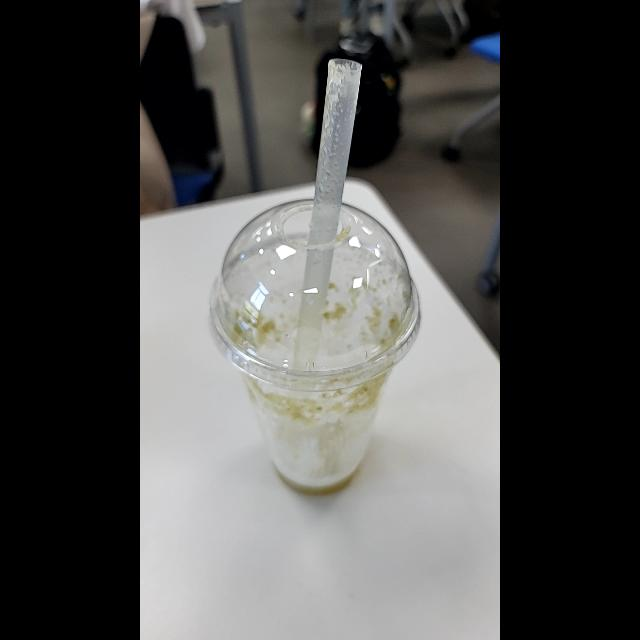plastic_cup: (209, 184, 433, 506)
plastic_cup_lid: (206, 196, 428, 388)
straw: (296, 62, 361, 379)
